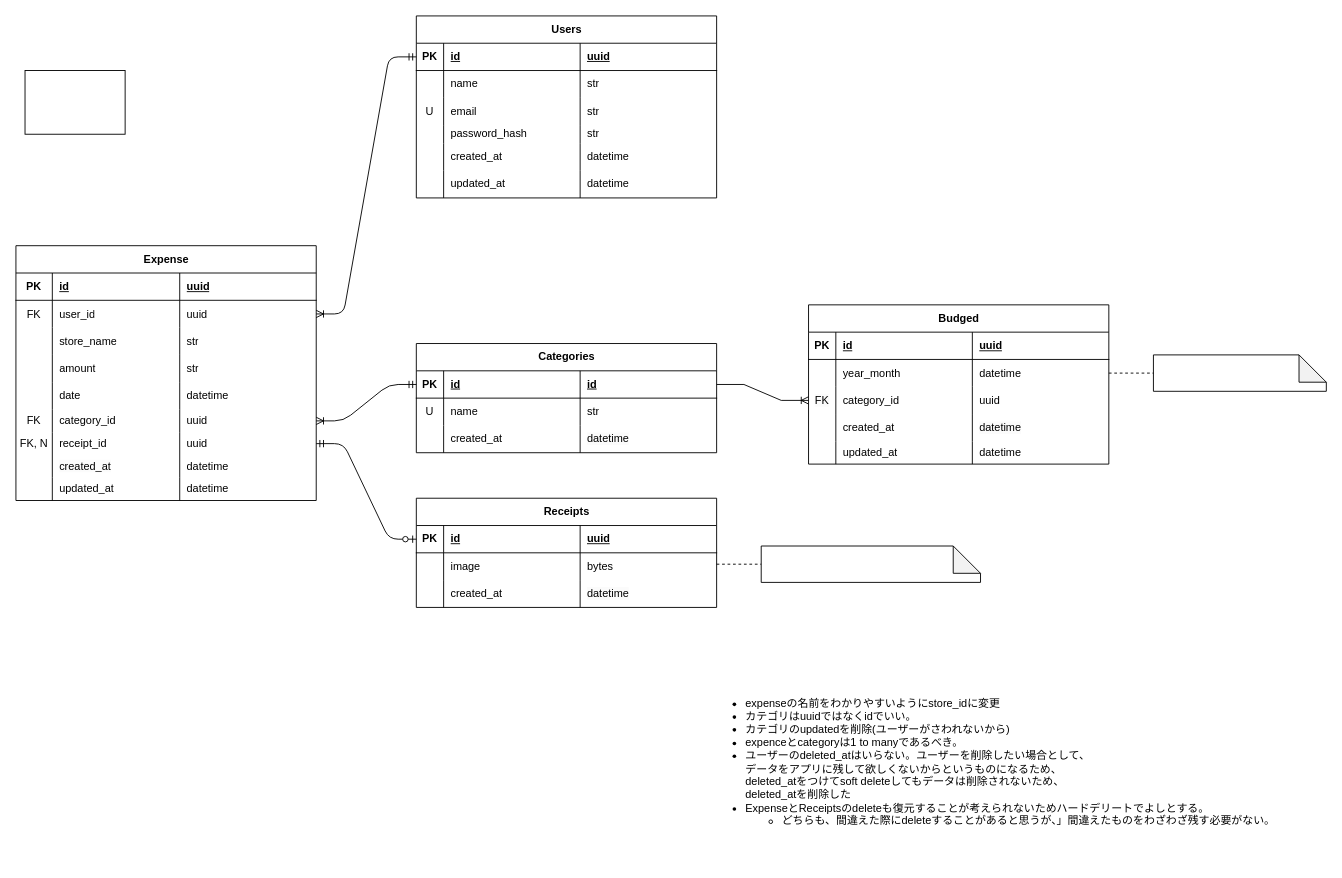
Some shapes in this 1342 by 878 pixel diagram are drawn without their labels. Here are the shapes that lost their labels. From the top down, the centre of each, then its label:
At (x=74, y=102): "PK: Primary Key FK: Foreign Key U: Unique NA: Nullable".
At (x=1239, y=372): "2024-06のように年と月".
At (x=870, y=563): "ここはbytesがいいか 保存先のurl/pathがいいか要検討".
